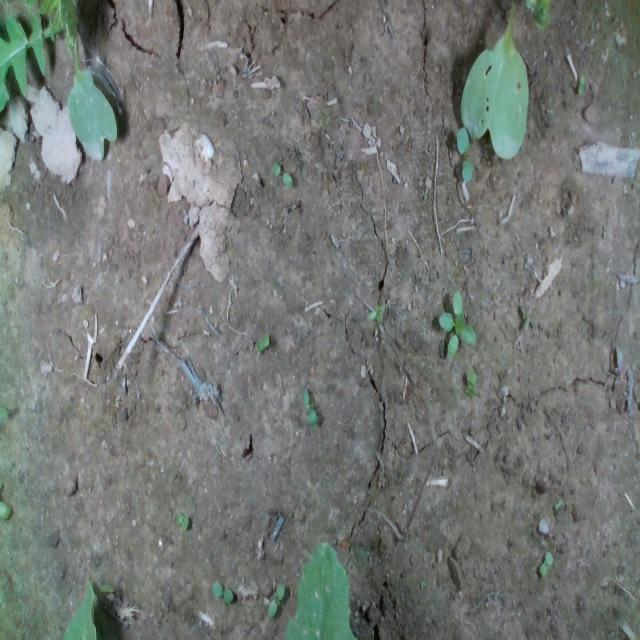weed: (268, 159, 294, 188)
